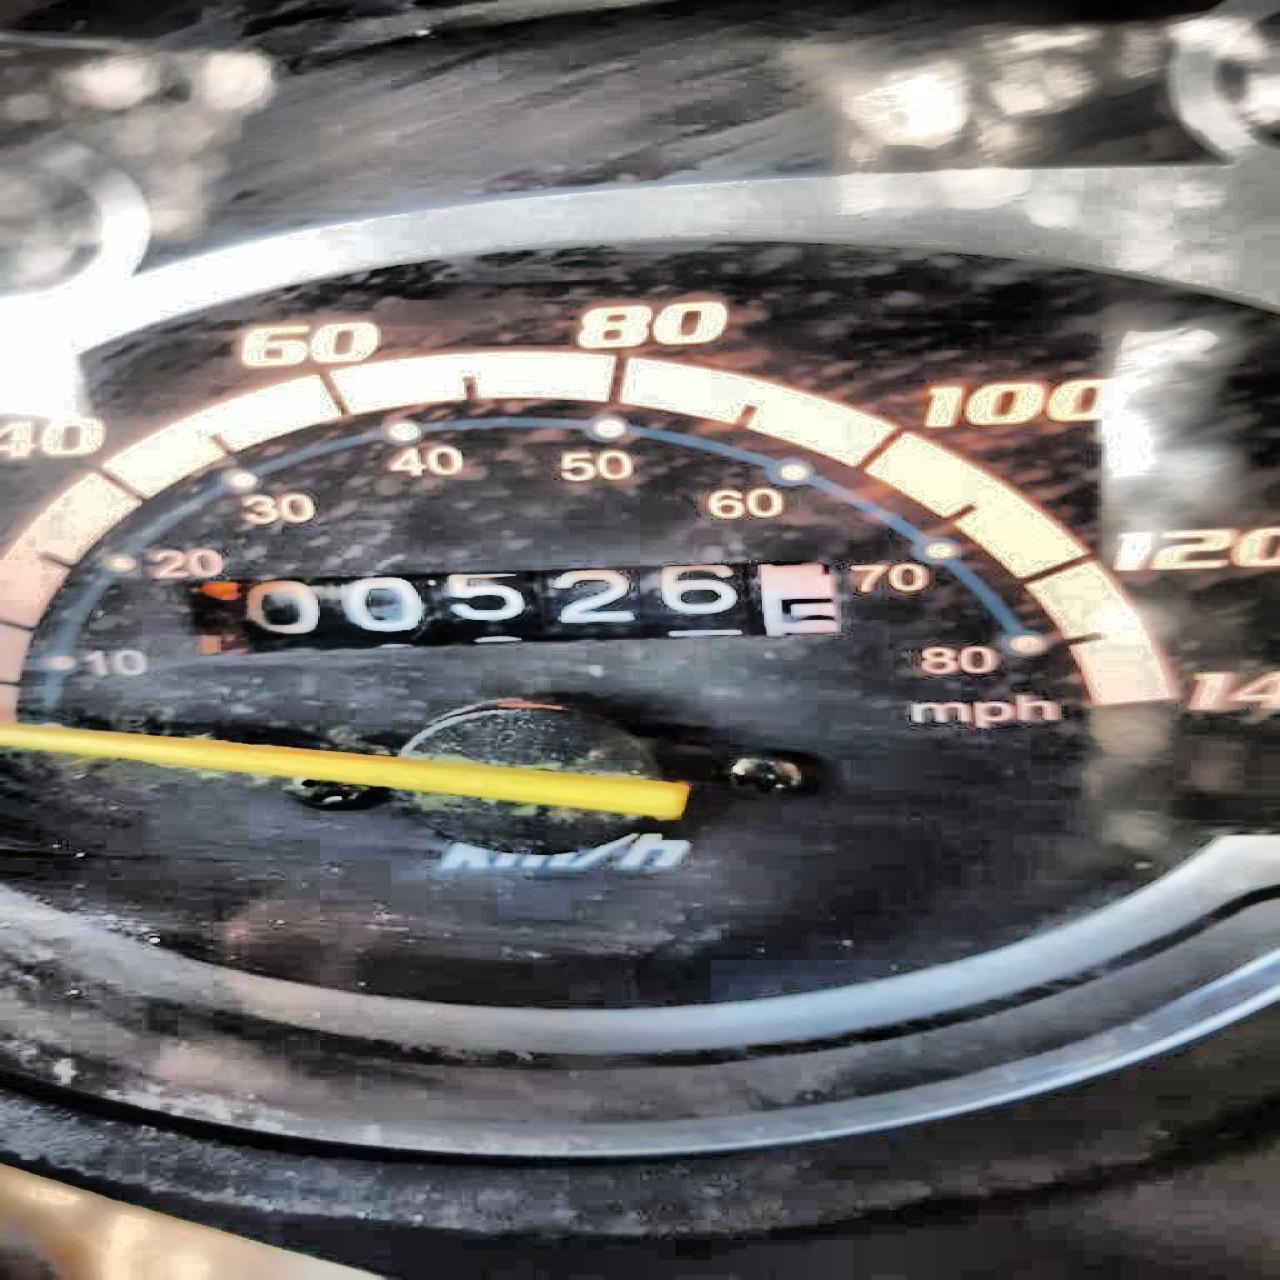0: (236, 574, 322, 638), (340, 573, 427, 635), (184, 560, 223, 579)
2: (544, 566, 640, 624)
5: (442, 568, 526, 622), (769, 592, 840, 640)
6: (651, 563, 742, 615)
odometer: (178, 560, 840, 659)
